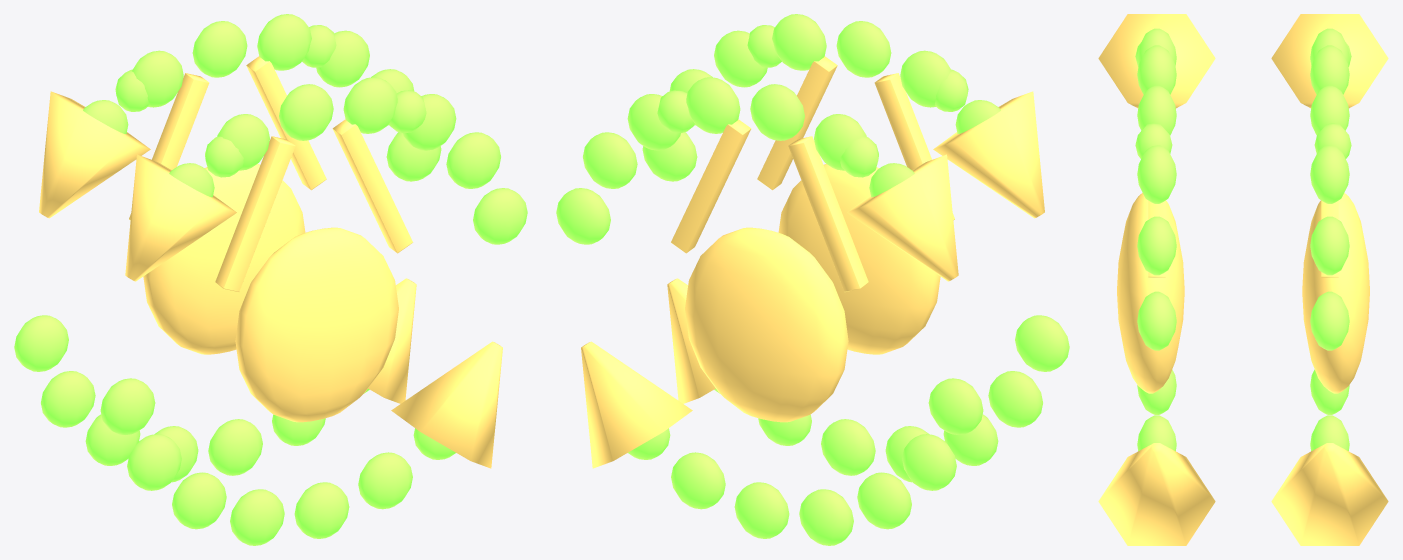
File: hedgeguard_emblem_5.glb
3 renders of one model, left to right at view 1: azimuth 30°, elevation 25°; view 2: azimuth 150°, elevation 25°; view 3: azimuth 270°, elevation 25°, orthographic.
Visible parts, largest first — view 1: EmblemTammy; view 2: EmblemTammy; view 3: EmblemTammy.
Boxes of the visible parts, bbox=[...] form: EmblemTammy: bbox=[14, 14, 527, 545]; EmblemTammy: bbox=[556, 14, 1069, 545]; EmblemTammy: bbox=[1098, 14, 1388, 545].
Bounding box in the file's own units: 0.7889 × 0.8154 × 0.47.
